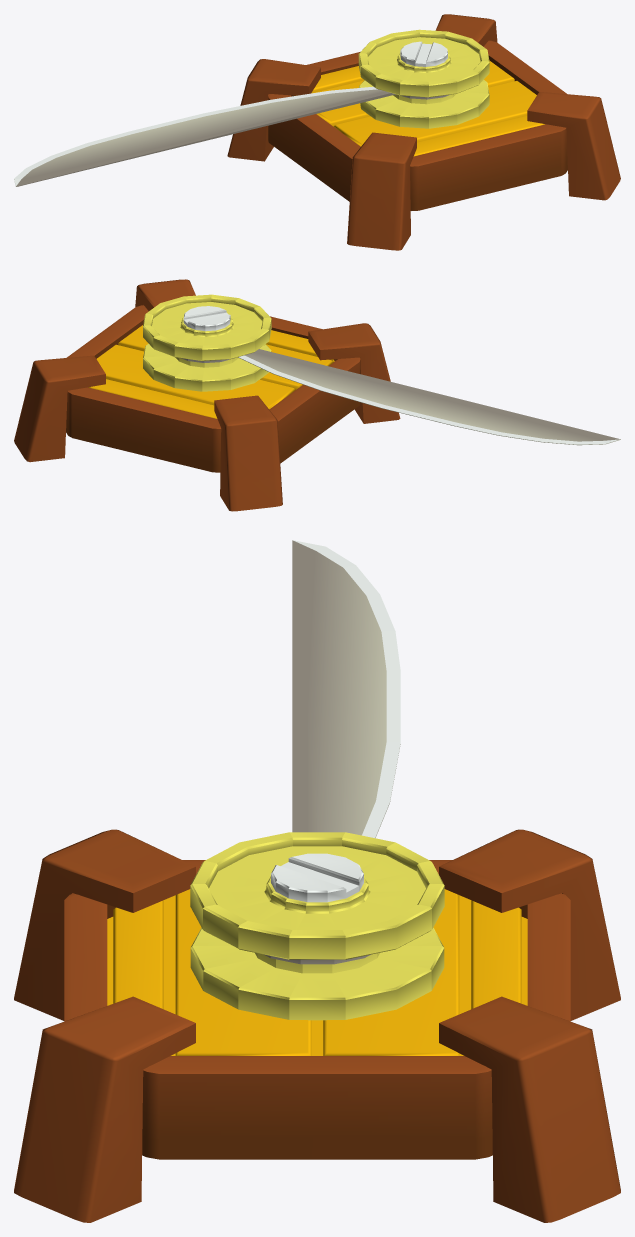
The model's file is islnd2-knife1.fbx.
3 renders of one model, top to bottom at view 1: azimuth 30°, elevation 25°; view 2: azimuth 150°, elevation 25°; view 3: azimuth 270°, elevation 25°, orthographic. The views are drawn at different scales.
Parts seen in each view (by area): view 1: knife-model1, knife-model1.01; view 2: knife-model1, knife-model1.01; view 3: knife-model1, knife-model1.01.
Boxes of the visible parts, box(x1,y1,x2,y2) form: knife-model1: box(227, 14, 620, 250); knife-model1.01: box(14, 86, 449, 186); knife-model1: box(14, 279, 400, 511); knife-model1.01: box(181, 349, 620, 445); knife-model1: box(14, 829, 620, 1222); knife-model1.01: box(264, 540, 400, 964).
Size of the model in its own units: 8.07 by 1.63 by 4.01.
Materials: 1 (1 with a texture image).
